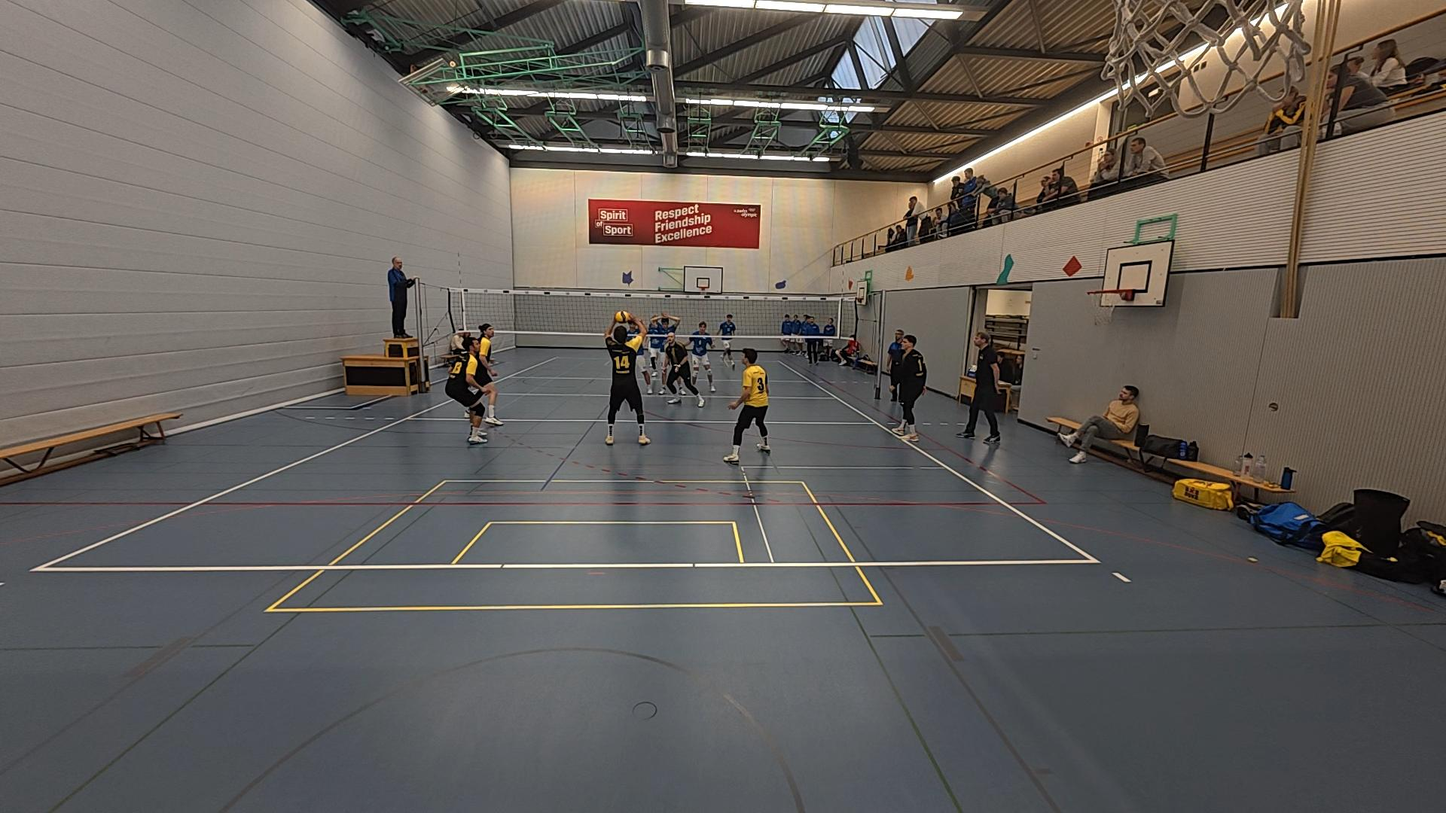Player: (725, 349, 772, 461), (444, 336, 490, 446), (891, 331, 929, 444), (663, 327, 706, 410), (474, 322, 502, 427), (623, 315, 655, 395), (645, 311, 676, 387), (686, 320, 716, 388), (714, 312, 738, 373)
Receive: (601, 308, 653, 447)
ball: (901, 265, 916, 280), (616, 309, 633, 322)
